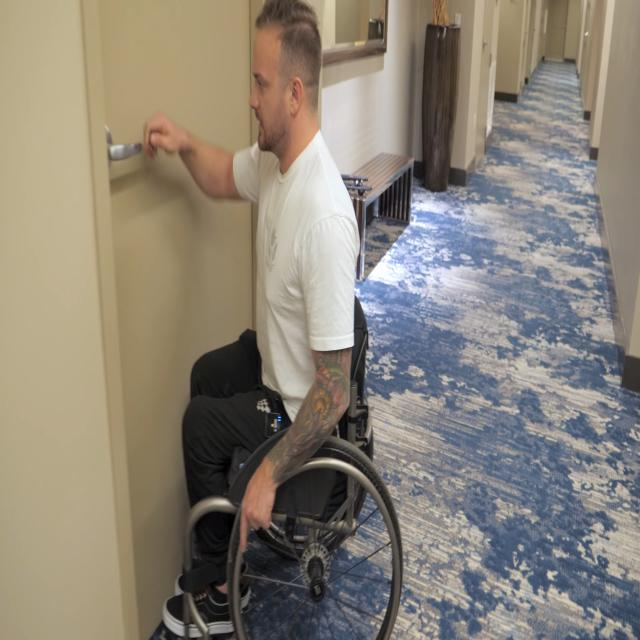wheelchairs: (174, 286, 407, 640)
